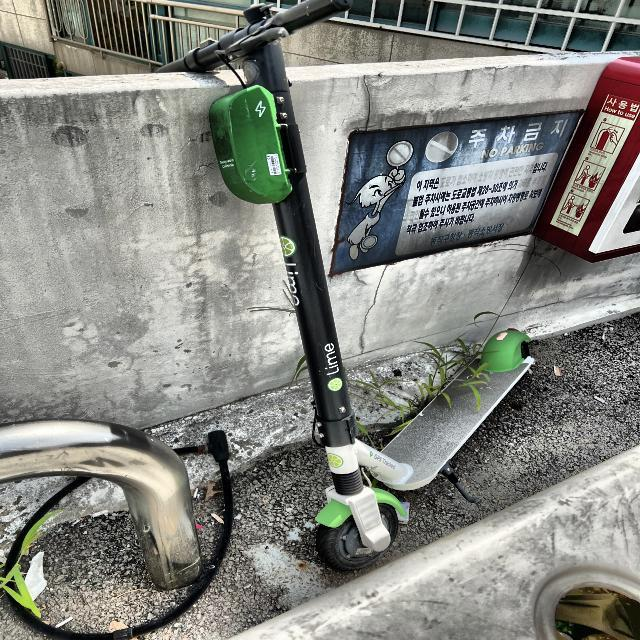bike: (176, 0, 542, 573)
traffic light: (209, 85, 293, 205)
